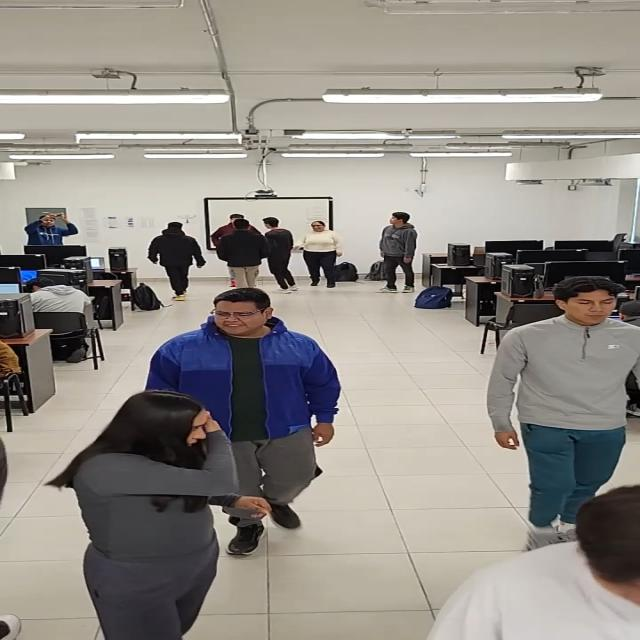Persona: (59, 390, 215, 637), (159, 286, 352, 477), (489, 277, 640, 492), (142, 222, 199, 302), (368, 205, 421, 287), (220, 218, 266, 287), (260, 216, 302, 291), (302, 219, 340, 287), (29, 212, 86, 252)
